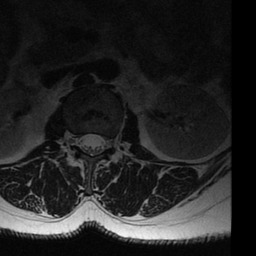CCS_normal: (87, 123, 96, 164)
LFS_normal: (105, 126, 114, 158)
LLS_normal: (96, 123, 105, 160)
RFS_normal: (68, 122, 78, 153)
RLS_normal: (77, 125, 87, 159)
